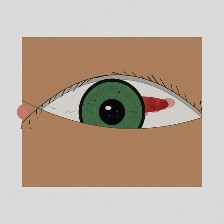hemorrhage_spot: (99, 72, 180, 137)
